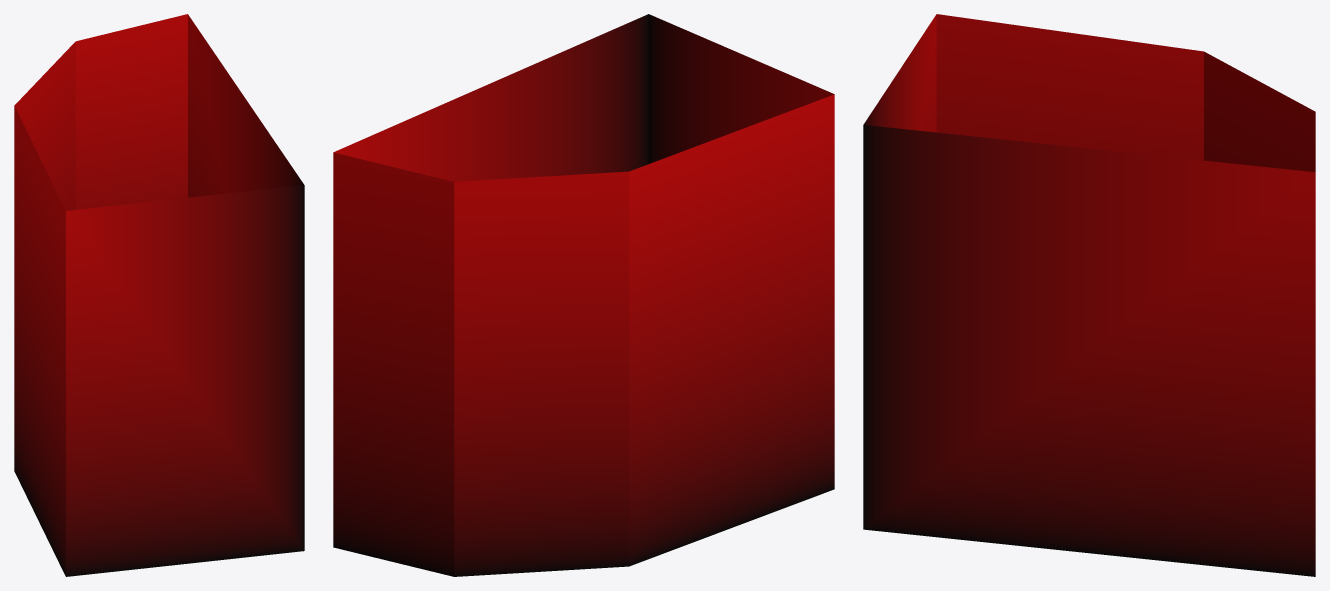
File: House_Corner2_collisionSetup.fbx
3 views of the same model, side by side, from view 1: azimuth 30°, elevation 25°; view 2: azimuth 150°, elevation 25°; view 3: azimuth 270°, elevation 25° (orthographic). The views are drawn at different scales.
Visible parts, largest first — view 1: collisionConvex; view 2: collisionConvex; view 3: collisionConvex.
Boxes of the visible parts, box(x1,y1,x2,y2) form: collisionConvex: box(14, 14, 304, 576); collisionConvex: box(333, 14, 834, 576); collisionConvex: box(863, 14, 1315, 576).
Size of the model in its own units: 1165 by 1389 by 1406.
